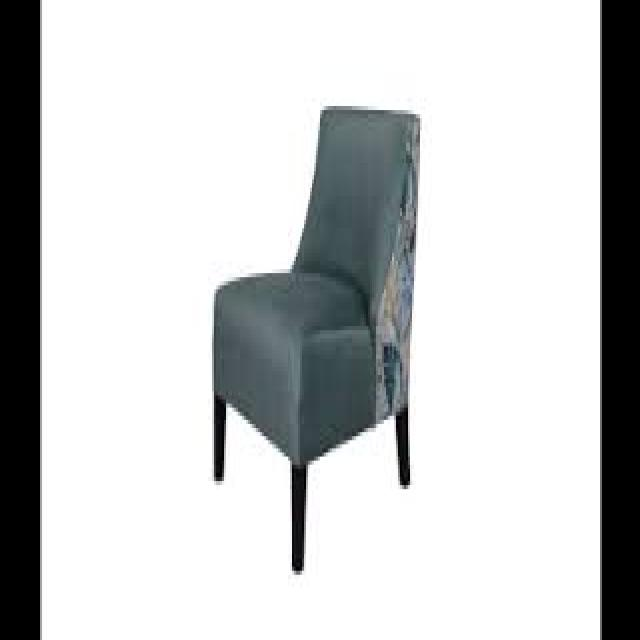chair: (186, 45, 454, 640)
